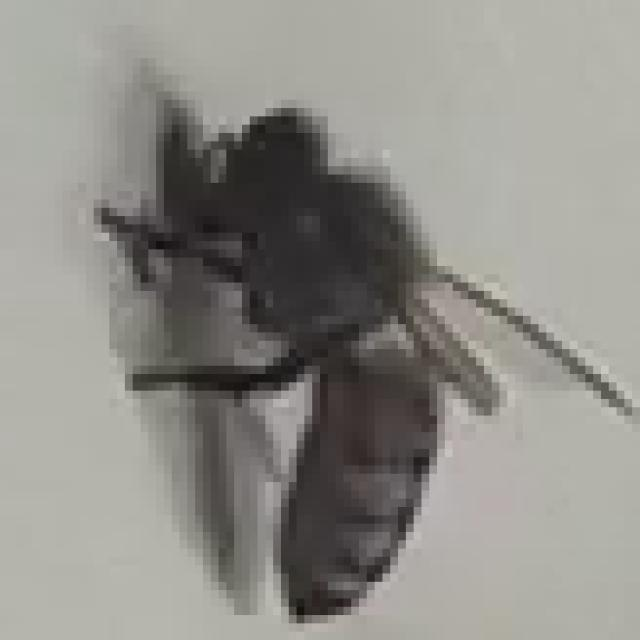honeybee: (112, 67, 548, 617)
